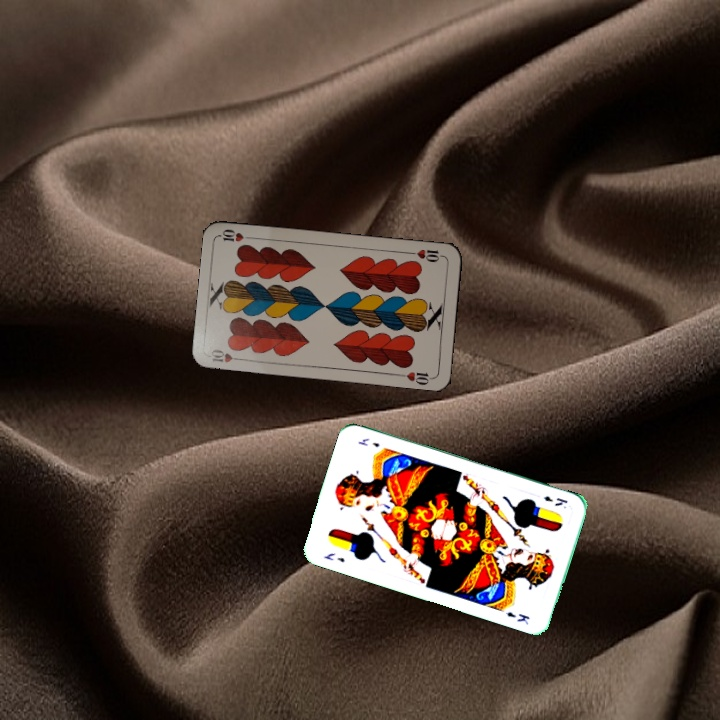EK: (539, 492, 570, 509), (320, 549, 347, 565)
H10: (405, 245, 446, 265), (207, 345, 247, 365)
